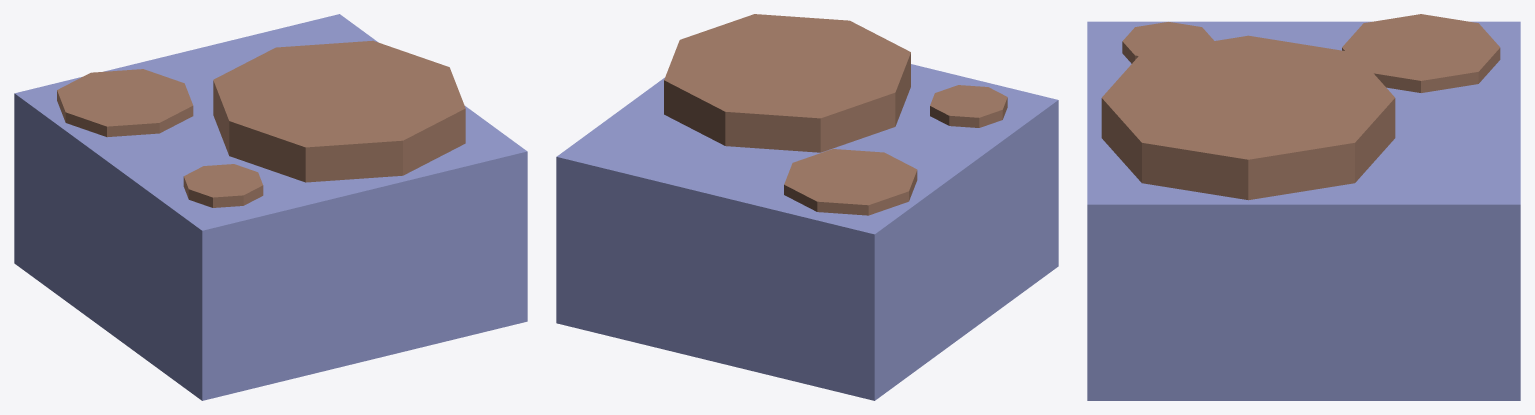
Rendered from path3.fbx.
3 views of the same model, side by side, from view 1: azimuth 30°, elevation 25°; view 2: azimuth 150°, elevation 25°; view 3: azimuth 270°, elevation 25° (orthographic). The views are drawn at different scales.
Parts seen in each view (by area): view 1: path1; view 2: path1; view 3: path1.
Part boxes in pixels (box(x1,y1,x2,y2)): path1: box(14, 14, 527, 400); path1: box(556, 14, 1058, 400); path1: box(1087, 14, 1520, 400).
Size of the model in its own units: 200 by 121 by 200.
